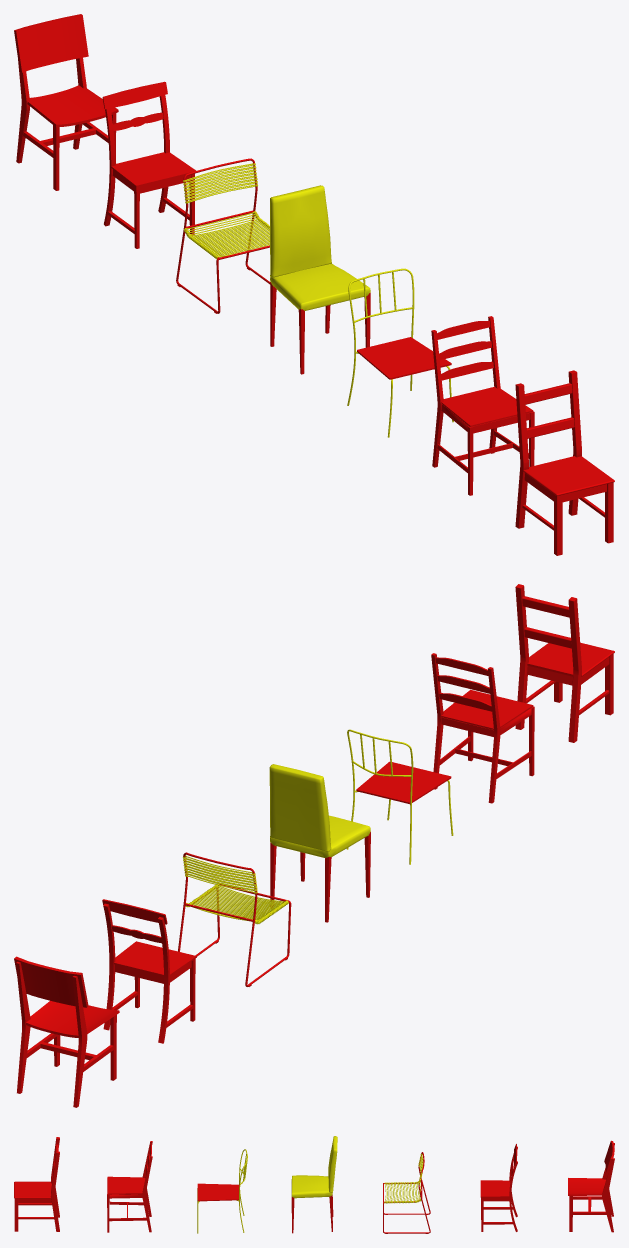
The model's file is thorkea_chairs_grp.fbx.
3 renders of one model, top to bottom at view 1: azimuth 30°, elevation 25°; view 2: azimuth 150°, elevation 25°; view 3: azimuth 270°, elevation 25°, orthographic. The views are drawn at different scales.
Visible parts, largest first — view 1: thorkea_chair_extendable, thorkea_chair_norden_gateleg, thorkea_chair_ivar, thorkea_chair_jokkmokk, thorkea_chair_liatorp, thorkea_chair_mella, thorkea_chair_antnas; view 2: thorkea_chair_norden_gateleg, thorkea_chair_extendable, thorkea_chair_ivar, thorkea_chair_jokkmokk, thorkea_chair_liatorp, thorkea_chair_mella, thorkea_chair_antnas; view 3: thorkea_chair_norden_gateleg, thorkea_chair_ivar, thorkea_chair_jokkmokk, thorkea_chair_extendable, thorkea_chair_liatorp, thorkea_chair_mella, thorkea_chair_antnas.
Part boxes in pixels (bbox=[...]): thorkea_chair_extendable: bbox=[270, 185, 370, 374]; thorkea_chair_norden_gateleg: bbox=[14, 14, 118, 190]; thorkea_chair_ivar: bbox=[515, 370, 614, 555]; thorkea_chair_jokkmokk: bbox=[431, 316, 534, 495]; thorkea_chair_liatorp: bbox=[102, 81, 196, 248]; thorkea_chair_mella: bbox=[176, 158, 270, 313]; thorkea_chair_antnas: bbox=[347, 268, 453, 437]; thorkea_chair_norden_gateleg: bbox=[14, 956, 119, 1107]; thorkea_chair_extendable: bbox=[269, 764, 370, 922]; thorkea_chair_ivar: bbox=[515, 584, 614, 742]; thorkea_chair_jokkmokk: bbox=[431, 653, 534, 803]; thorkea_chair_liatorp: bbox=[102, 899, 196, 1043]; thorkea_chair_mella: bbox=[178, 852, 291, 986]; thorkea_chair_antnas: bbox=[346, 729, 453, 864]; thorkea_chair_norden_gateleg: bbox=[568, 1140, 614, 1232]; thorkea_chair_ivar: bbox=[14, 1137, 59, 1231]; thorkea_chair_jokkmokk: bbox=[107, 1141, 152, 1232]; thorkea_chair_extendable: bbox=[291, 1136, 337, 1233]; thorkea_chair_liatorp: bbox=[480, 1144, 517, 1231]; thorkea_chair_mella: bbox=[383, 1152, 430, 1233]; thorkea_chair_antnas: bbox=[197, 1149, 247, 1233].
Size of the model in its own units: 51.94 by 98.12 by 651.
